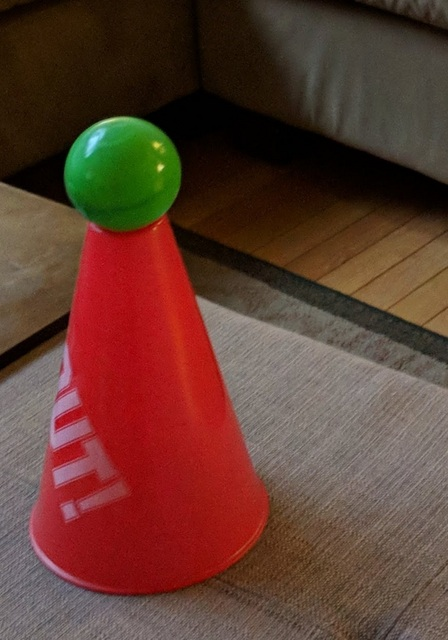Ball: (63, 117, 180, 230)
